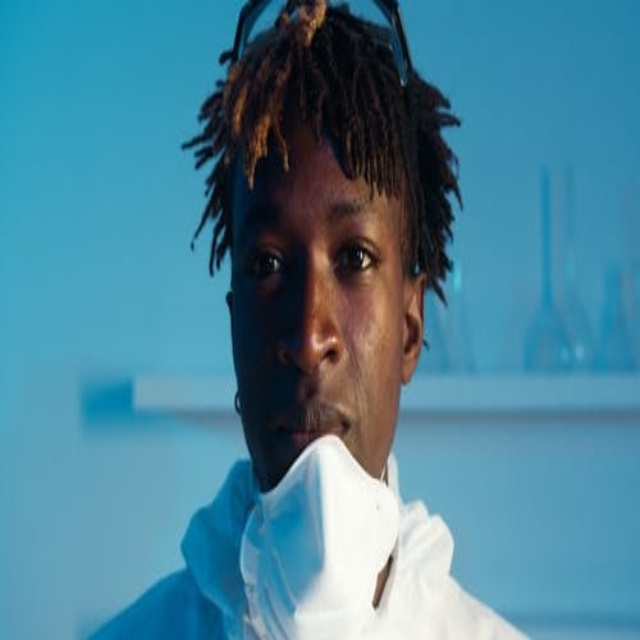Sin_gafas: (232, 191, 390, 298)
Sin_mascara: (261, 385, 357, 465)
